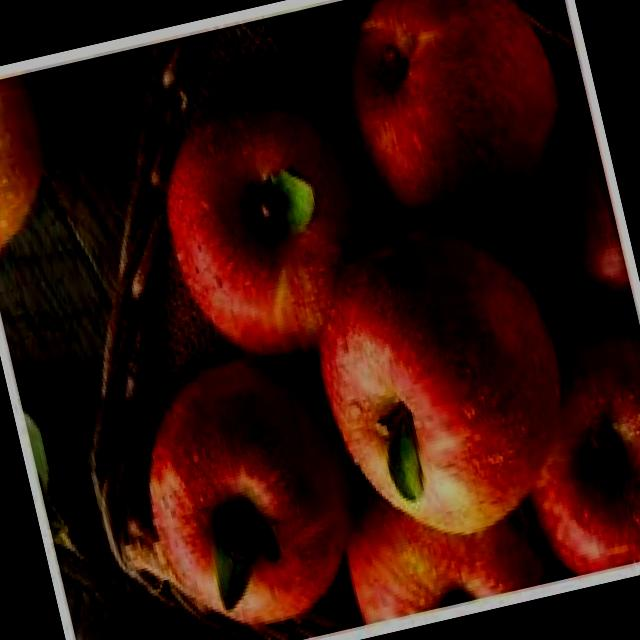Apple: (291, 201, 593, 561), (140, 72, 399, 384), (118, 338, 381, 640), (322, 0, 584, 254), (492, 312, 640, 585), (328, 448, 550, 629), (516, 70, 636, 324)
